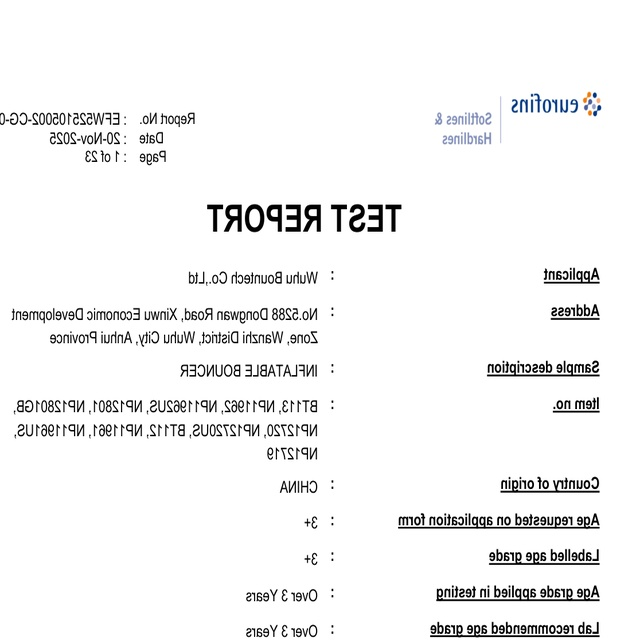eurofins: (506, 88, 616, 122)
